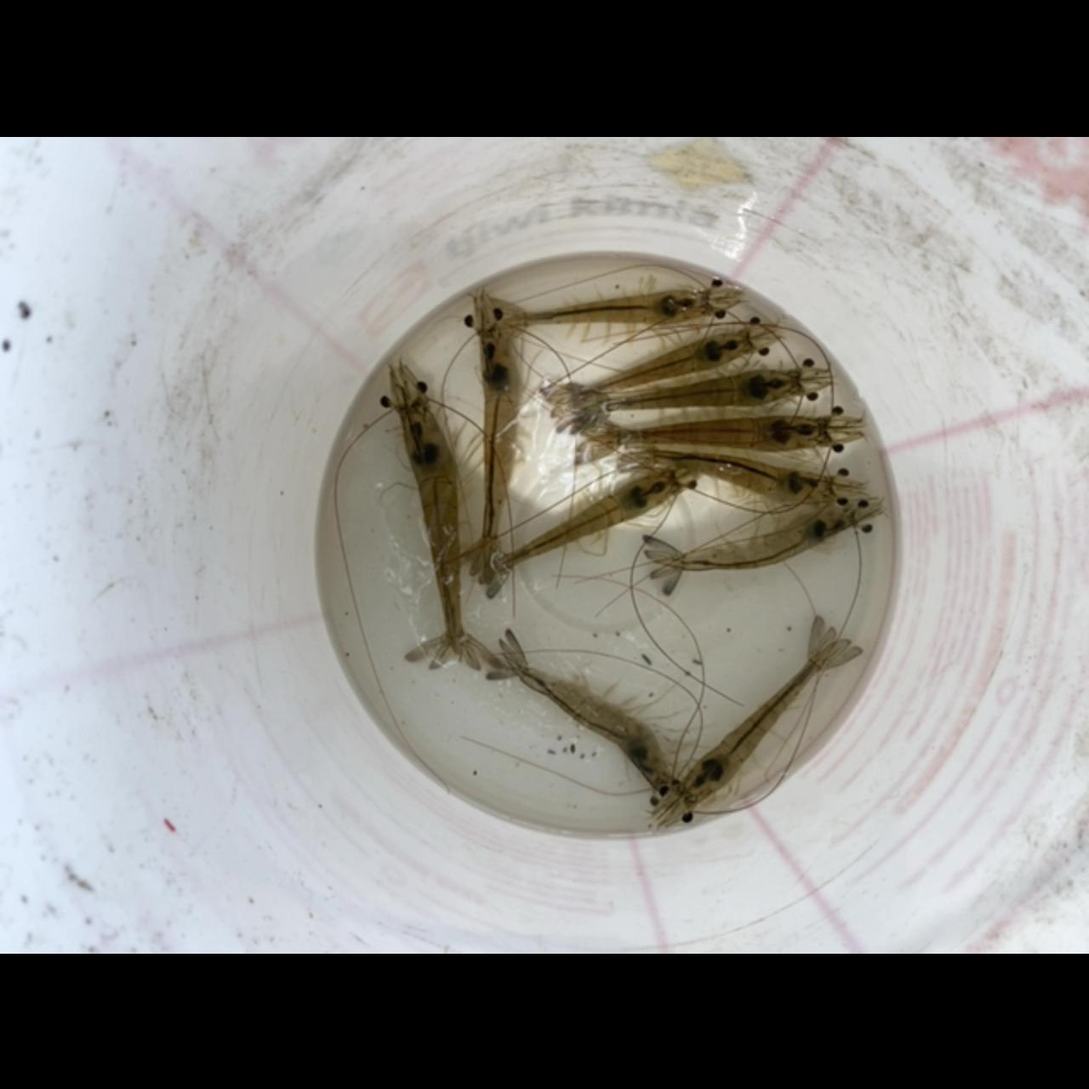top_shrimp: (681, 641, 835, 802), (501, 654, 664, 783), (482, 468, 678, 573), (399, 401, 463, 663), (557, 332, 750, 401), (662, 510, 859, 573), (612, 448, 831, 503), (479, 327, 520, 572), (581, 367, 800, 412), (588, 415, 828, 453), (496, 289, 708, 325)
